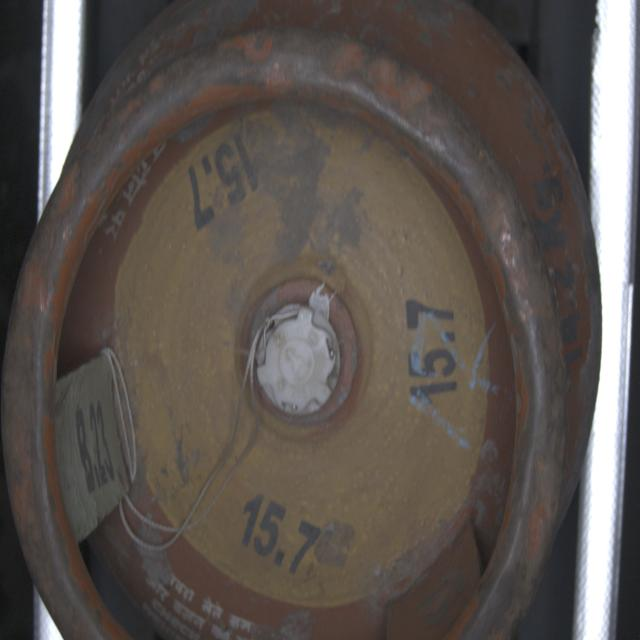Cap: (254, 302, 341, 423)
